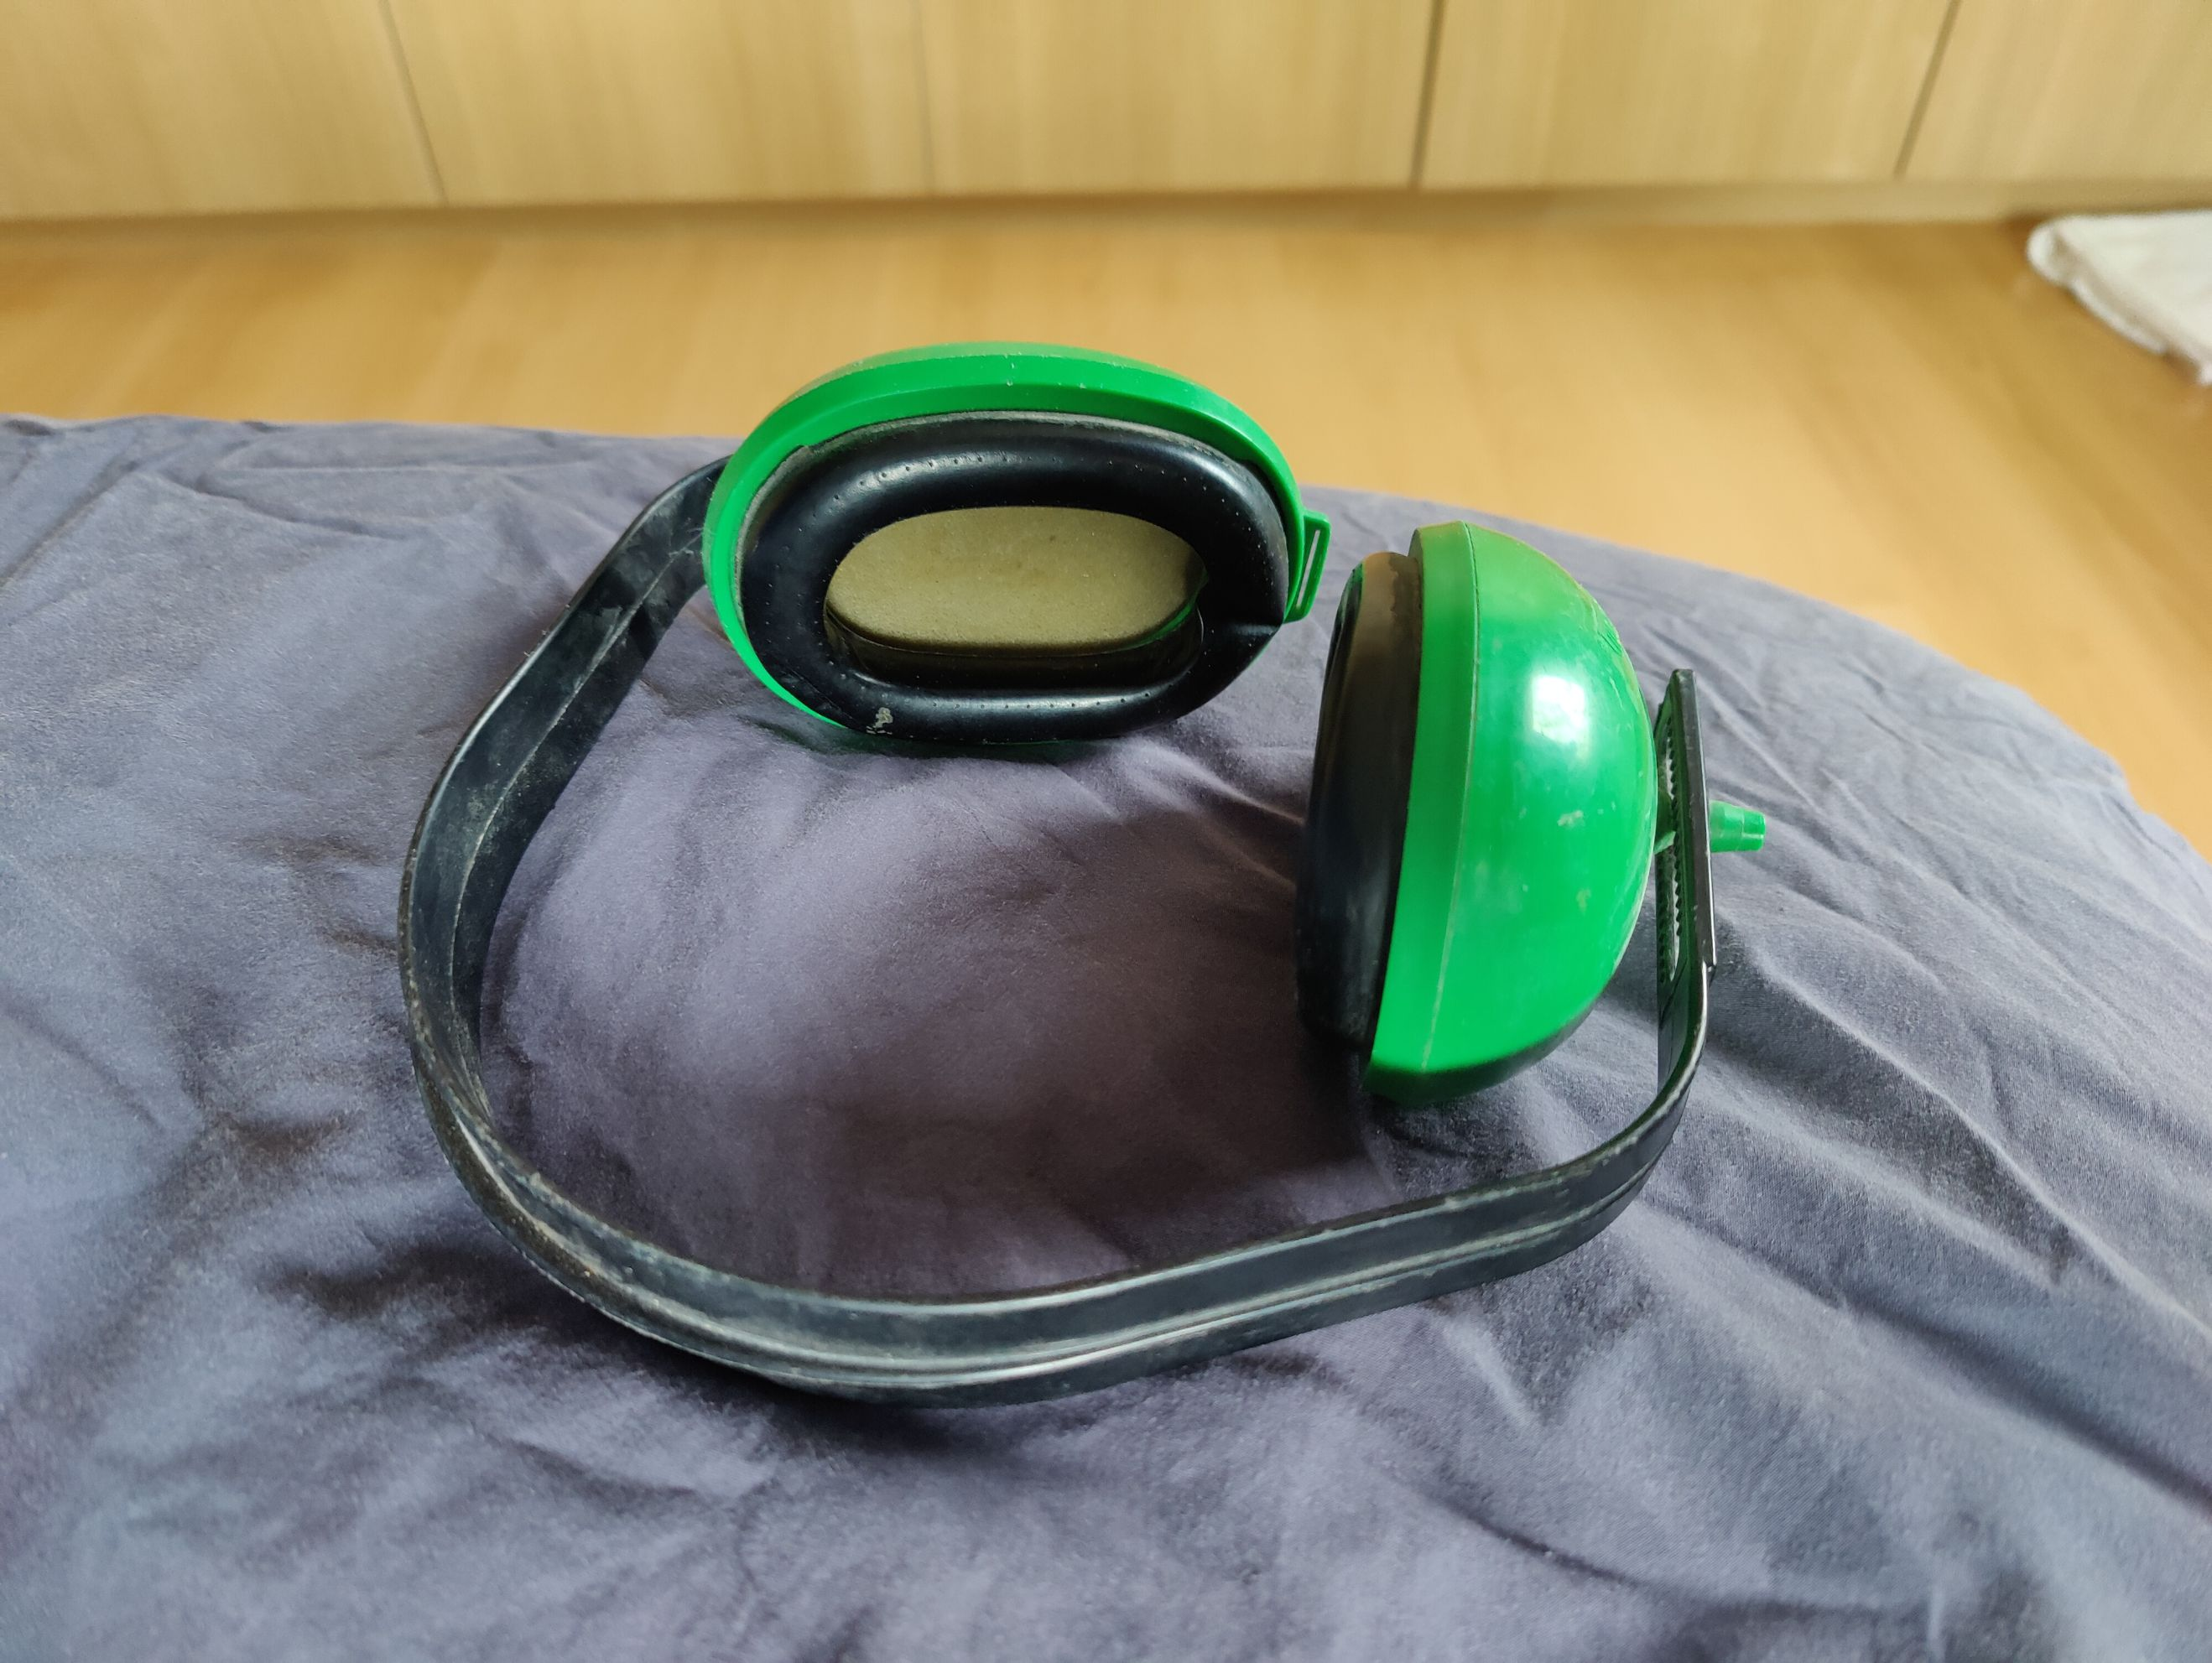headphones: (398, 353, 1763, 1411)
